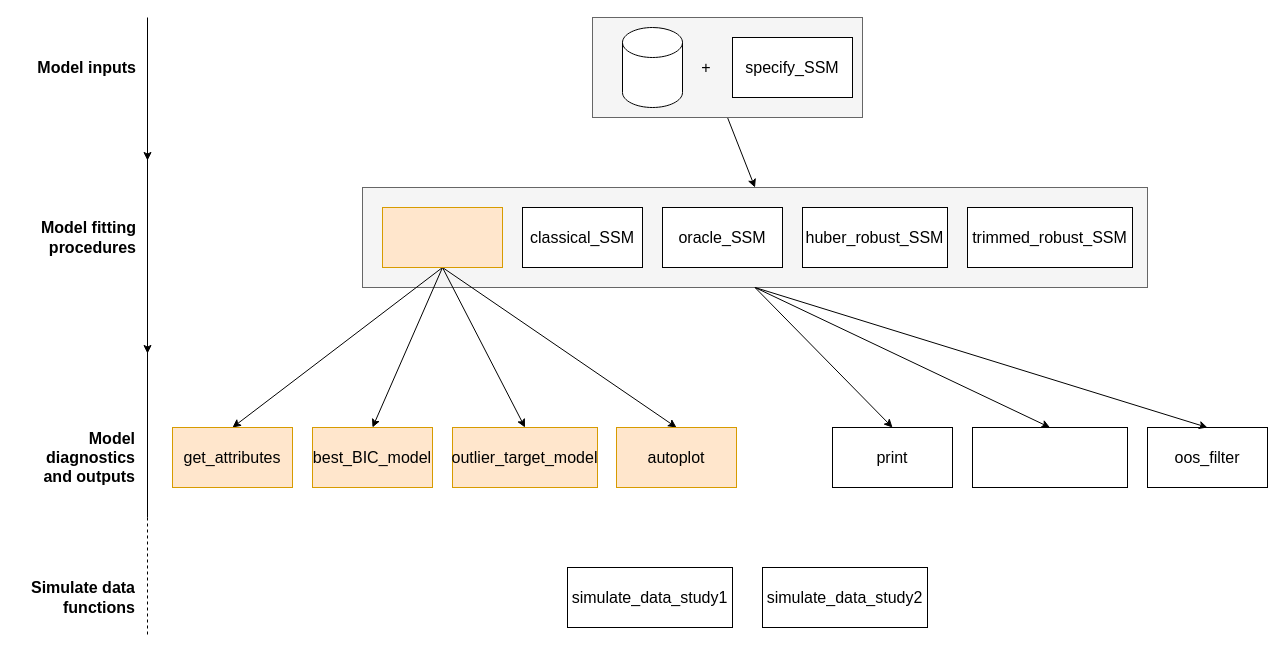
The diagram is 1285 pixels wide and 655 high, and some of its shapes have lost their labels. Here are the shapes that lost their labels. From the top down, the centre of each, then its label:
At point 652,67: "your data".
At point 442,237: "roams _SSM".
At point 1050,457: "attach_insample_info".
